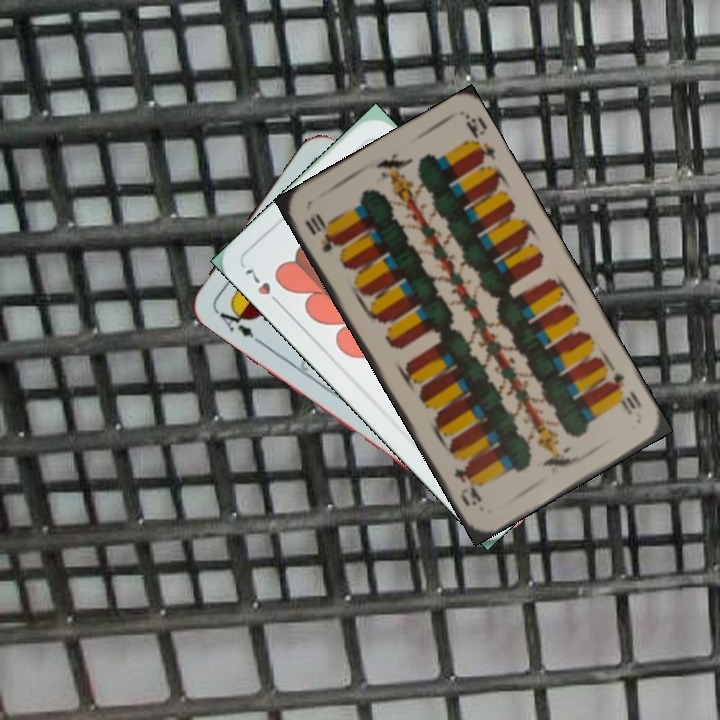E10: (300, 209, 345, 258), (604, 368, 645, 418)
EA: (211, 300, 263, 346)
H7: (240, 264, 285, 310)
